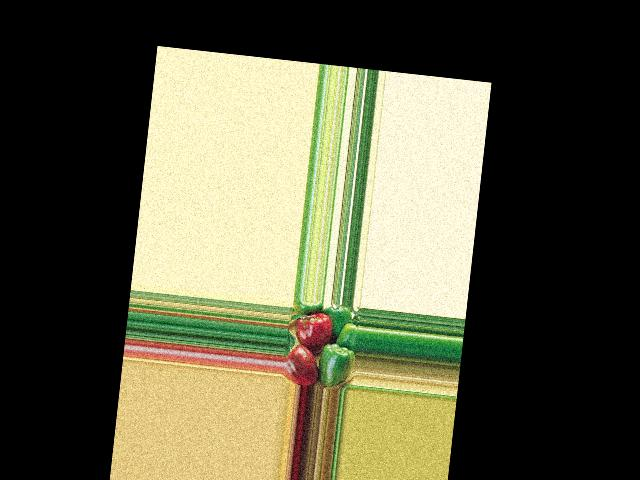bell_pepper: (283, 343, 319, 386)
